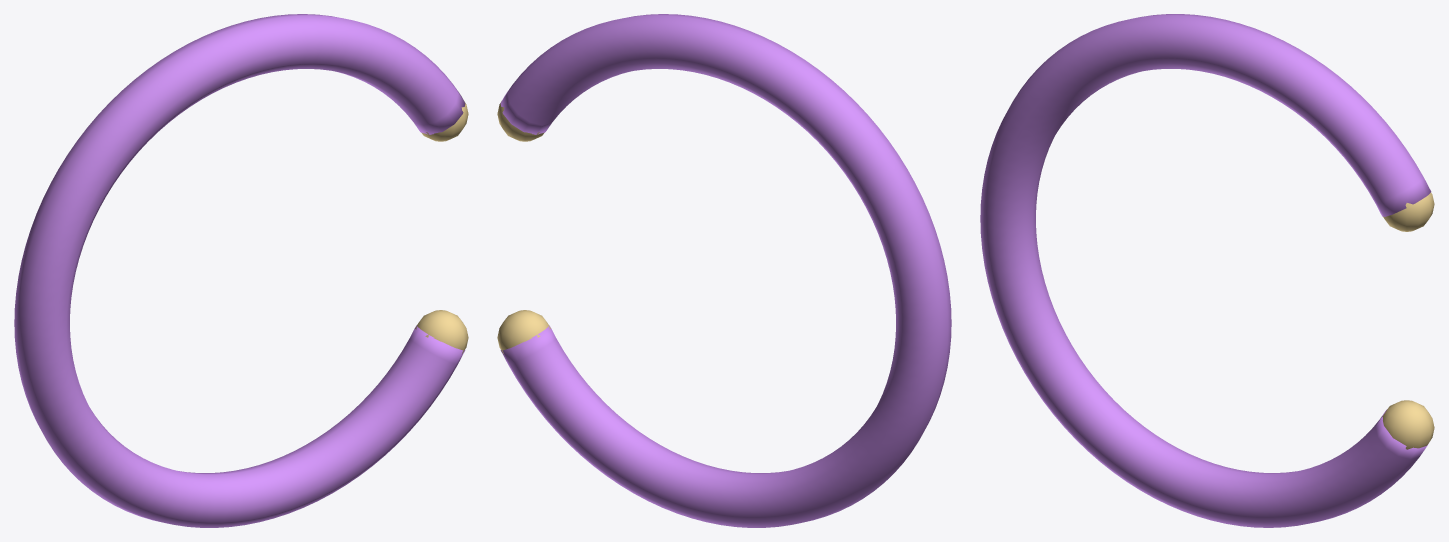
Rendered from arc-B570-Pb3.glb.
3 views of the same model, side by side, from view 1: azimuth 30°, elevation 25°; view 2: azimuth 150°, elevation 25°; view 3: azimuth 330°, elevation 25° (orthographic).
Parts seen in each view (by area): view 1: R3D_arc_Body_0, R3D_arc_Tip_1, R3D_arc_Tip_0; view 2: R3D_arc_Body_0, R3D_arc_Tip_1, R3D_arc_Tip_0; view 3: R3D_arc_Body_0, R3D_arc_Tip_1, R3D_arc_Tip_0.
Part boxes in pixels (x1,y1,x2,y2): R3D_arc_Body_0: (14, 14, 465, 527); R3D_arc_Tip_1: (415, 310, 468, 353); R3D_arc_Tip_0: (421, 101, 468, 141); R3D_arc_Body_0: (500, 14, 951, 527); R3D_arc_Tip_1: (497, 310, 550, 353); R3D_arc_Tip_0: (497, 101, 544, 141); R3D_arc_Body_0: (980, 14, 1431, 527); R3D_arc_Tip_1: (1381, 400, 1434, 449); R3D_arc_Tip_0: (1383, 192, 1434, 231).
Bounding box in the file's own units: 1.67 × 1.78 × 0.18.
